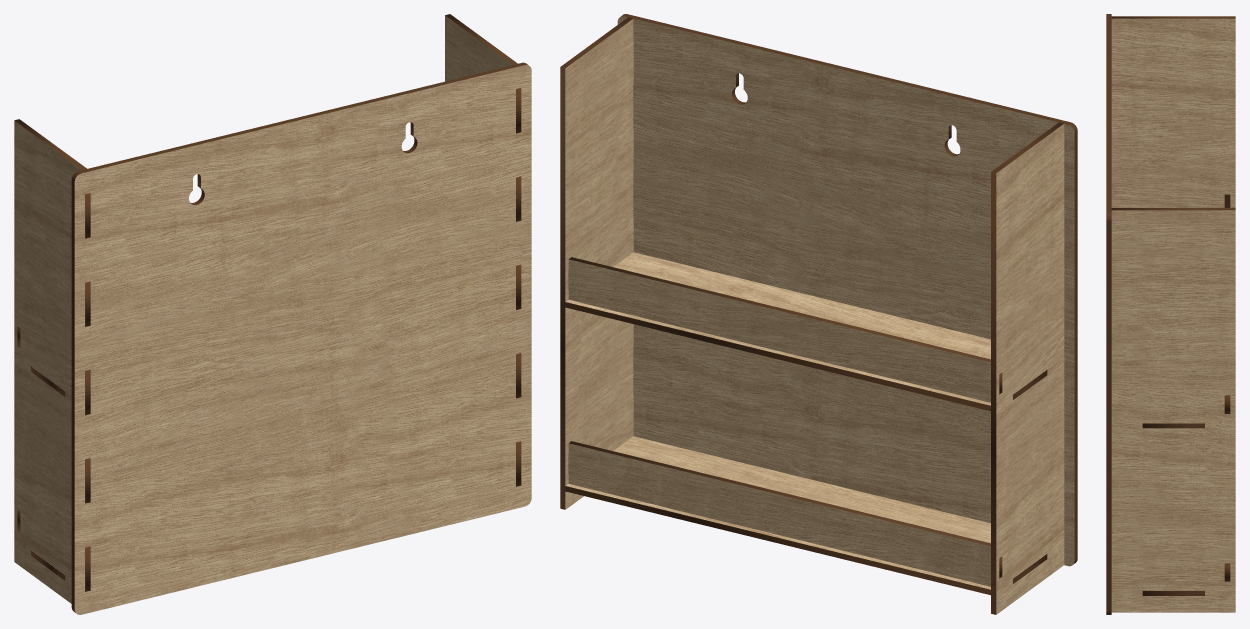
File: spice-shelf.glb
3 renders of one model, left to right at view 1: azimuth 30°, elevation 25°; view 2: azimuth 150°, elevation 25°; view 3: azimuth 270°, elevation 25°, orthographic. The views are drawn at different scales.
Parts seen in each view (by area): view 1: body0, body1, body2; view 2: body0, body1, body2, body5, body6, body4, body3; view 3: body2, body1, body0, body4, body3, body6.
Part boxes in pixels (bbox=[...]): body0: bbox=[71, 62, 531, 614]; body1: bbox=[14, 119, 90, 603]; body2: bbox=[445, 14, 521, 486]; body0: bbox=[617, 14, 1077, 566]; body1: bbox=[991, 122, 1064, 614]; body2: bbox=[560, 17, 633, 509]; body5: bbox=[568, 441, 1002, 586]; body6: bbox=[568, 257, 1002, 402]; body4: bbox=[565, 252, 1047, 411]; body3: bbox=[565, 436, 1047, 595]; body2: bbox=[1111, 208, 1235, 612]; body1: bbox=[1111, 16, 1235, 207]; body0: bbox=[1106, 14, 1111, 614]; body4: bbox=[1142, 423, 1204, 428]; body3: bbox=[1142, 591, 1204, 595]; body6: bbox=[1224, 194, 1230, 413].
Size of the model in its own units: 0.26 by 0.24 by 0.07.
2 materials, 1 textured.
